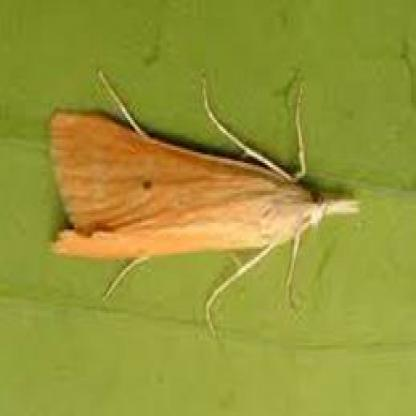stem-borer: (46, 66, 362, 340)
